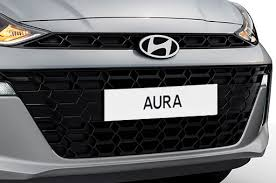car: (1, 1, 272, 183)
